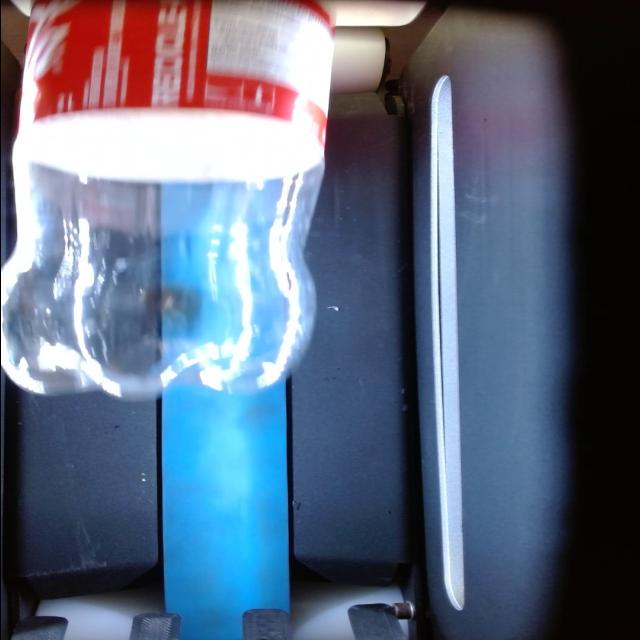bottom: (0, 316, 323, 406)
